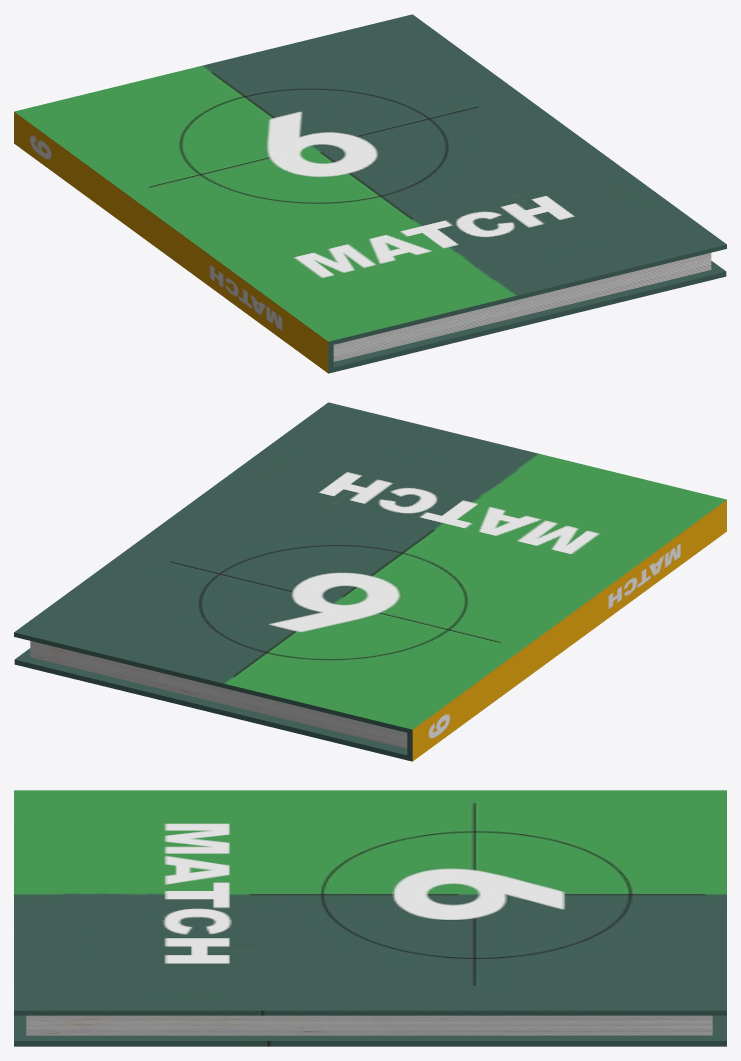
Rendered from Book 2.FBX.
The picture shows the model from 3 angles, top to bottom: view 1: azimuth 30°, elevation 25°; view 2: azimuth 150°, elevation 25°; view 3: azimuth 270°, elevation 25°; orthographic projection. The views are drawn at different scales.
Parts seen in each view (by area): view 1: Book 2; view 2: Book 2; view 3: Book 2.
Boxes of the visible parts, left/top/right/bottom form: Book 2: left=14, top=14, right=726, bottom=373; Book 2: left=14, top=402, right=726, bottom=761; Book 2: left=14, top=790, right=726, bottom=1046.
Bounding box in the file's own units: 21.52 × 1.65 × 29.4.
1 material, 1 textured.
